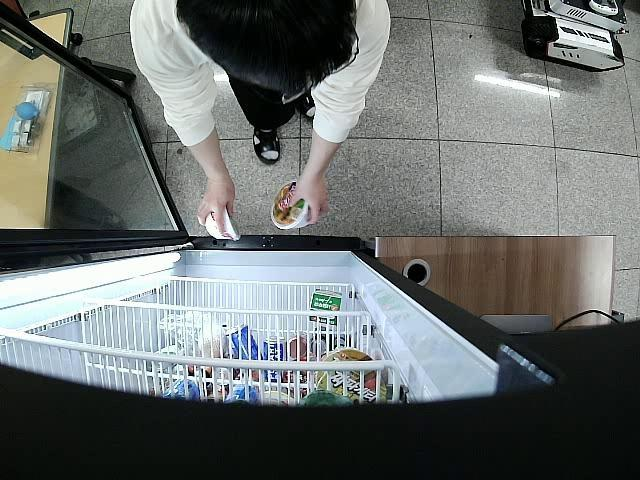09_yukGaeJang: (272, 180, 314, 229), (205, 204, 242, 243)
